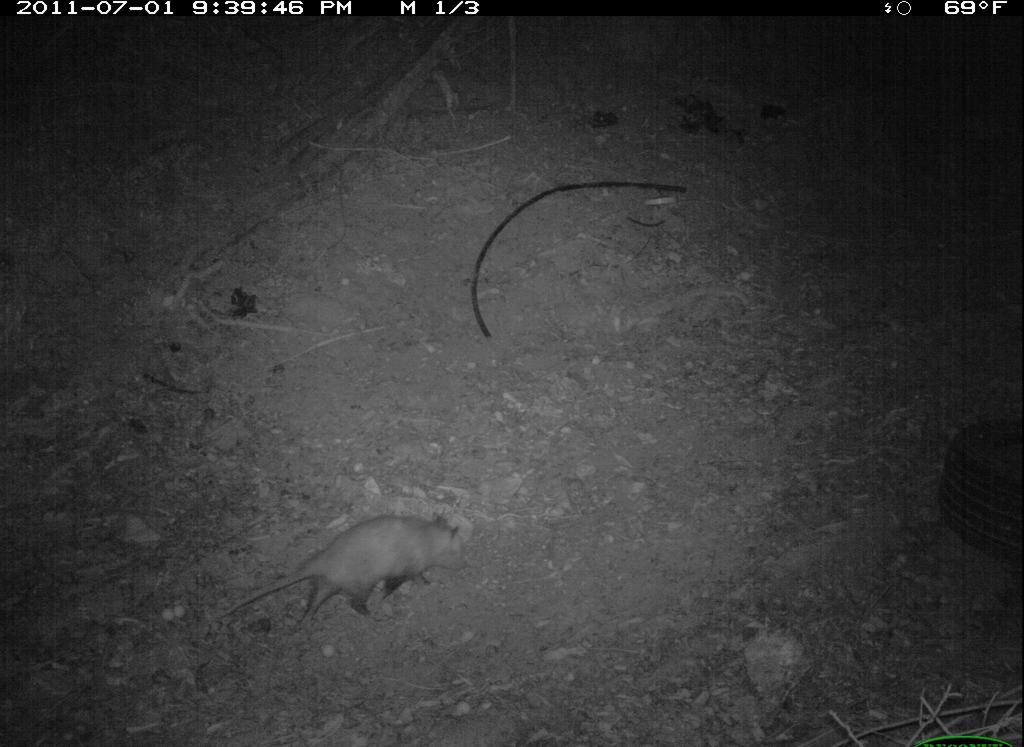opossum: (239, 498, 473, 641)
